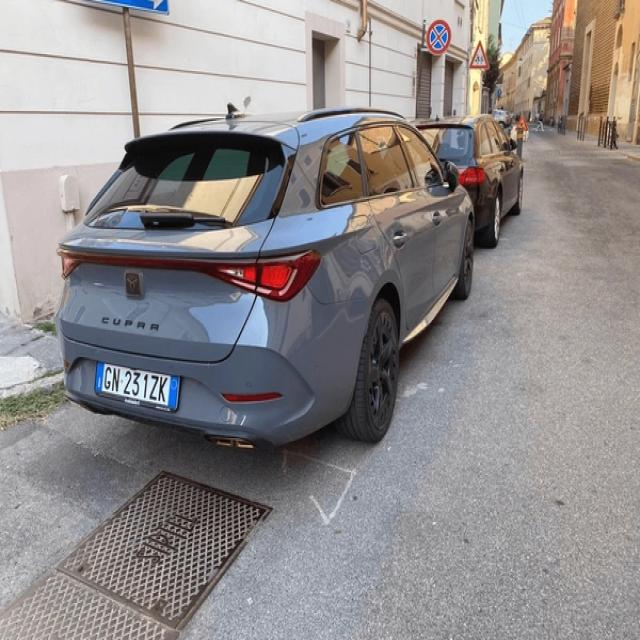cupra: (126, 274, 140, 294)
